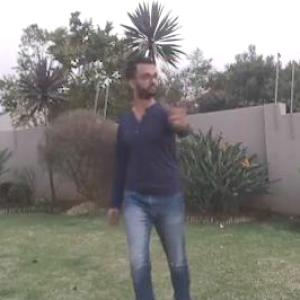takeoff-hand: (163, 96, 193, 128)
